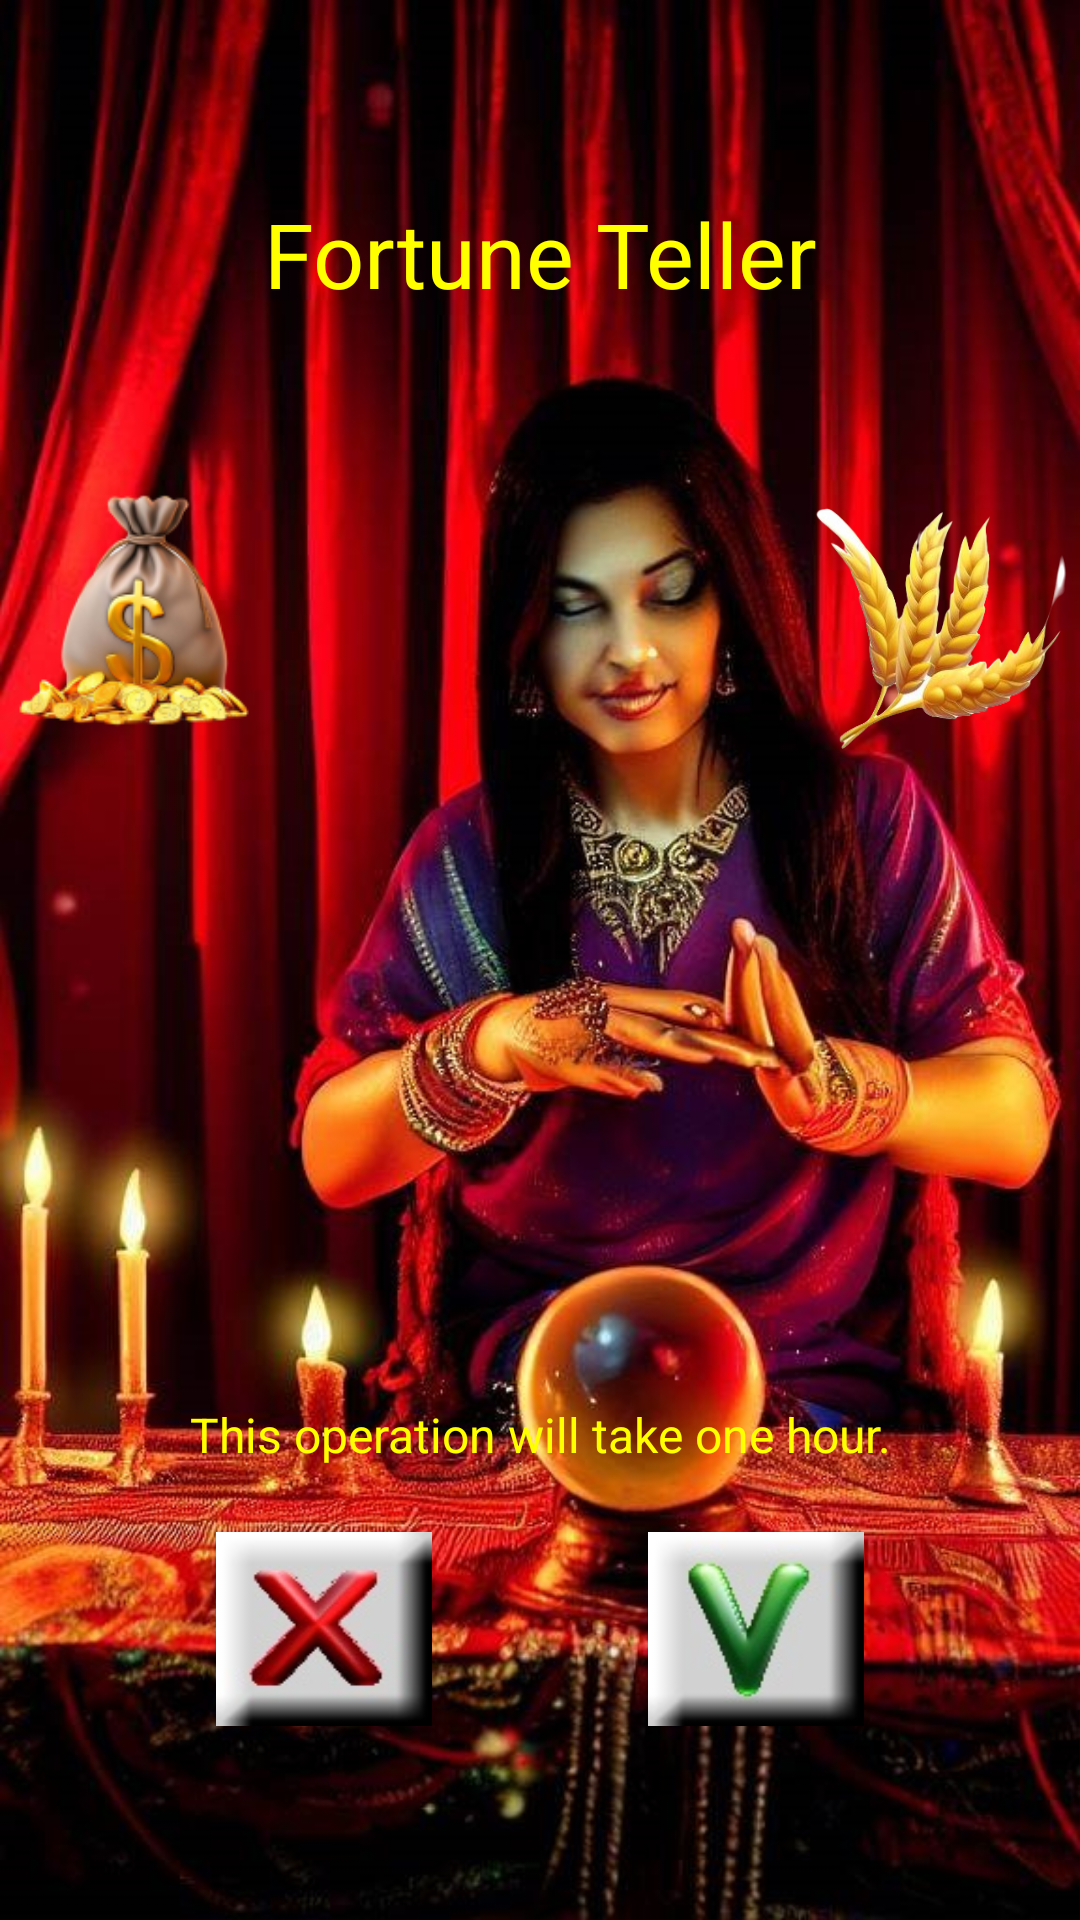

Screen size 1080px x 1920px. Icon name, then its center in pixels as (x=x, y=y):
cash: (x=135, y=612)
wheat: (x=945, y=612)
